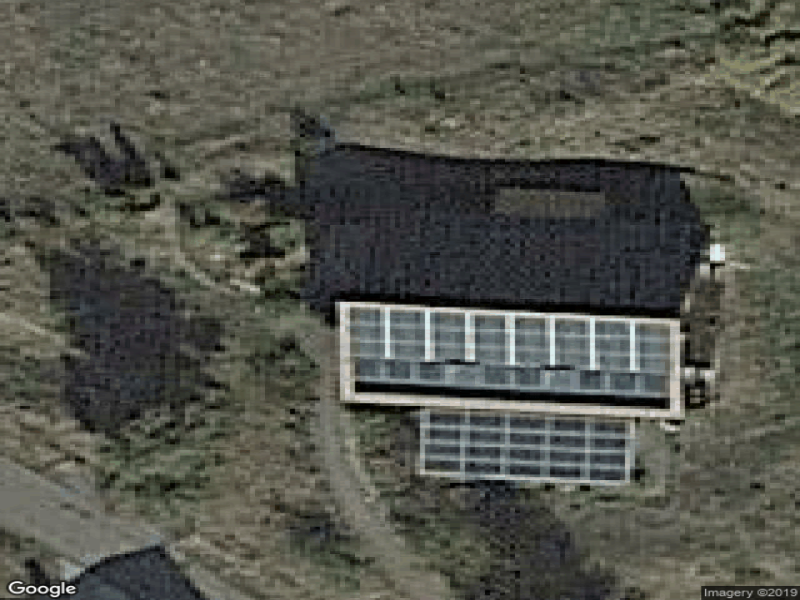pv: (349, 305, 671, 409), (421, 407, 630, 482)
